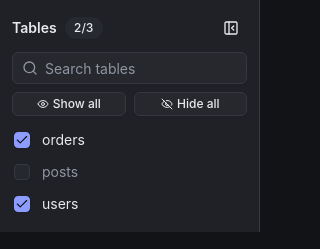
Test: TableListPane › keeps only the tables matching the search
In the search field labelled "Search tables": (130, 68) [12,52,247,84], type "us"
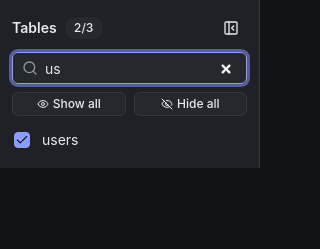
Expected: the button "users" is shown, [38,126,245,154]
Result: the button "posts" is gone
Result: the button "orders" is gone
